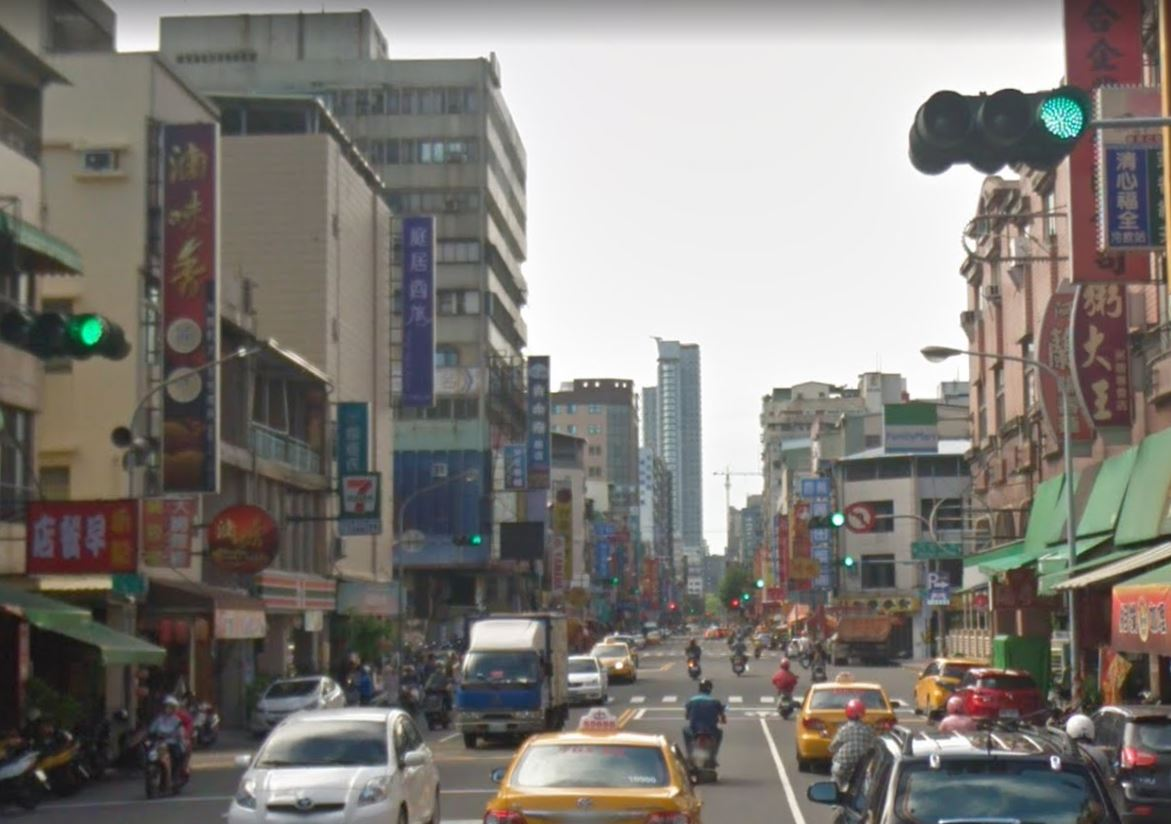Traffic_light_green: (906, 88, 1092, 178), (6, 305, 131, 366), (804, 510, 846, 532)
motorcycle: (677, 702, 726, 783)
